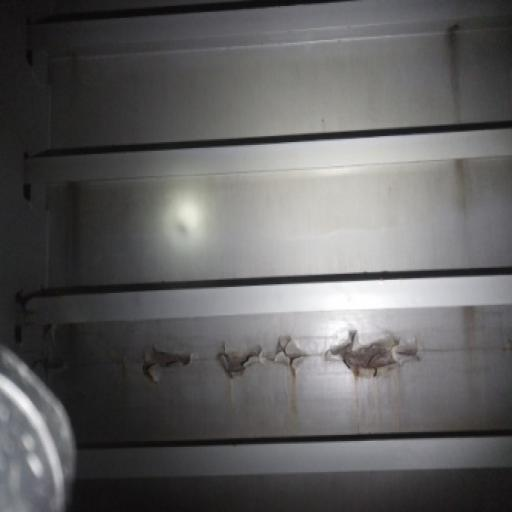Detect-rust-on-metal-surfaces: (134, 333, 418, 388)
